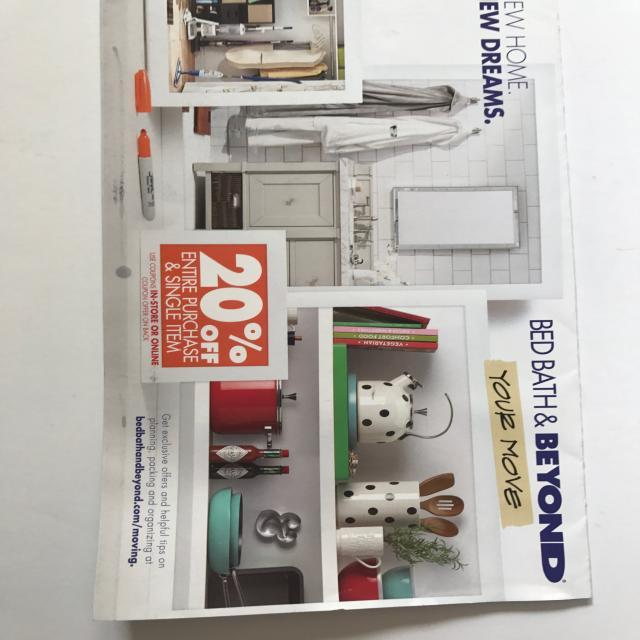paper: (94, 1, 598, 634)
